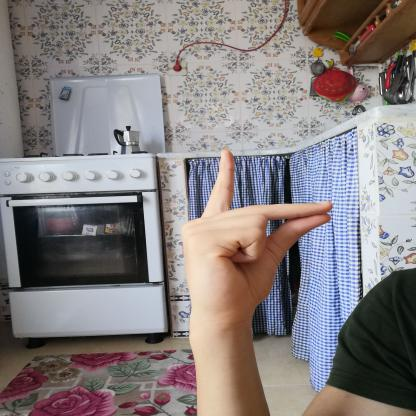TAA: (167, 144, 347, 335)
